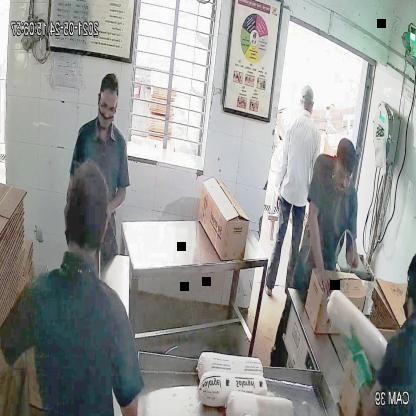goggles: (95, 92, 121, 118), (333, 159, 354, 186)
